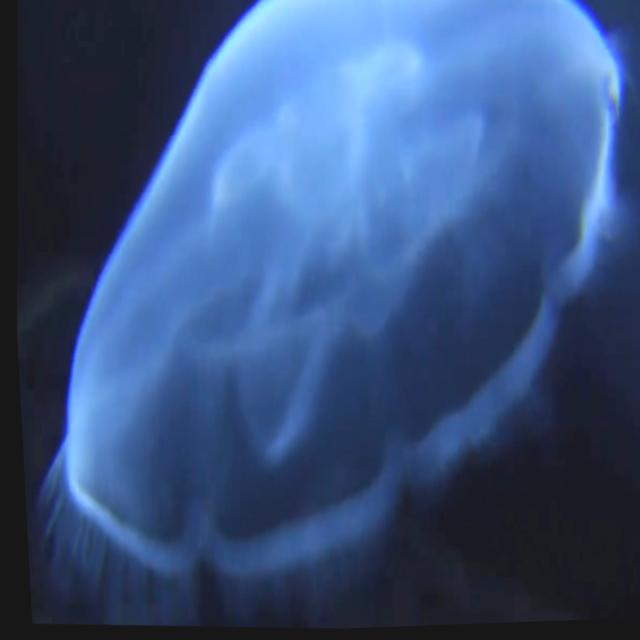Moon-jellyfish: (50, 0, 617, 576)
